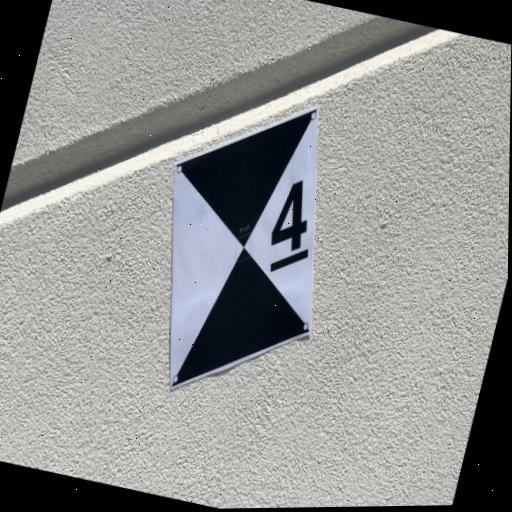target4: (172, 106, 319, 391)
